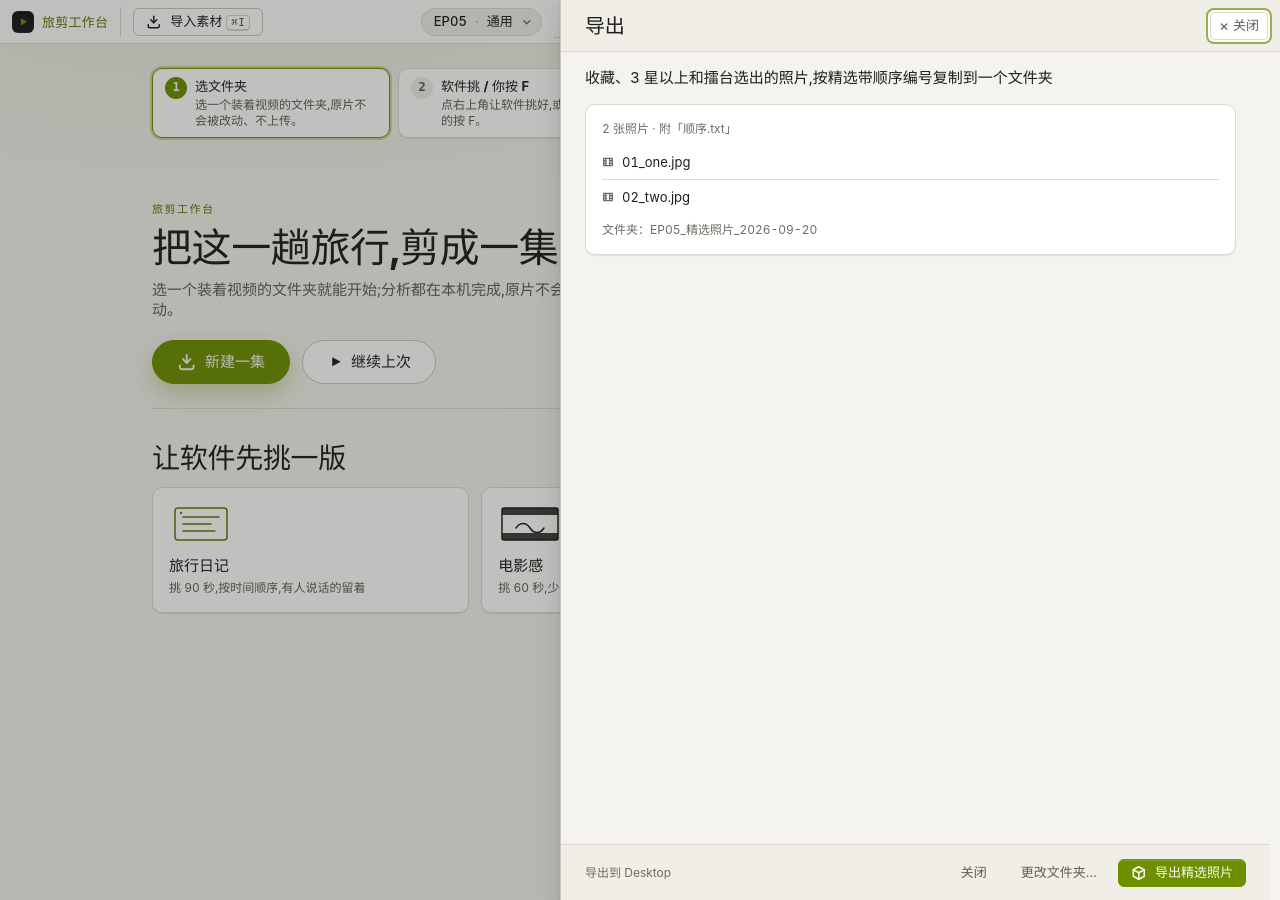
Test: 照片工作台的导出抽屉(R21 照片线) › 导出精选照片:顺序保存失败 → 显示错误,不启动后端
Expected: the text "01_one.jpg" is shown, top-left (622, 153), bottom-right (690, 171)
What coordinates should you click on to do the following:
click the button with aria-label "导出精选照片到上次文件夹"
I would click on:
 (1182, 872)
Its box is top-left (1118, 858), bottom-right (1246, 886).
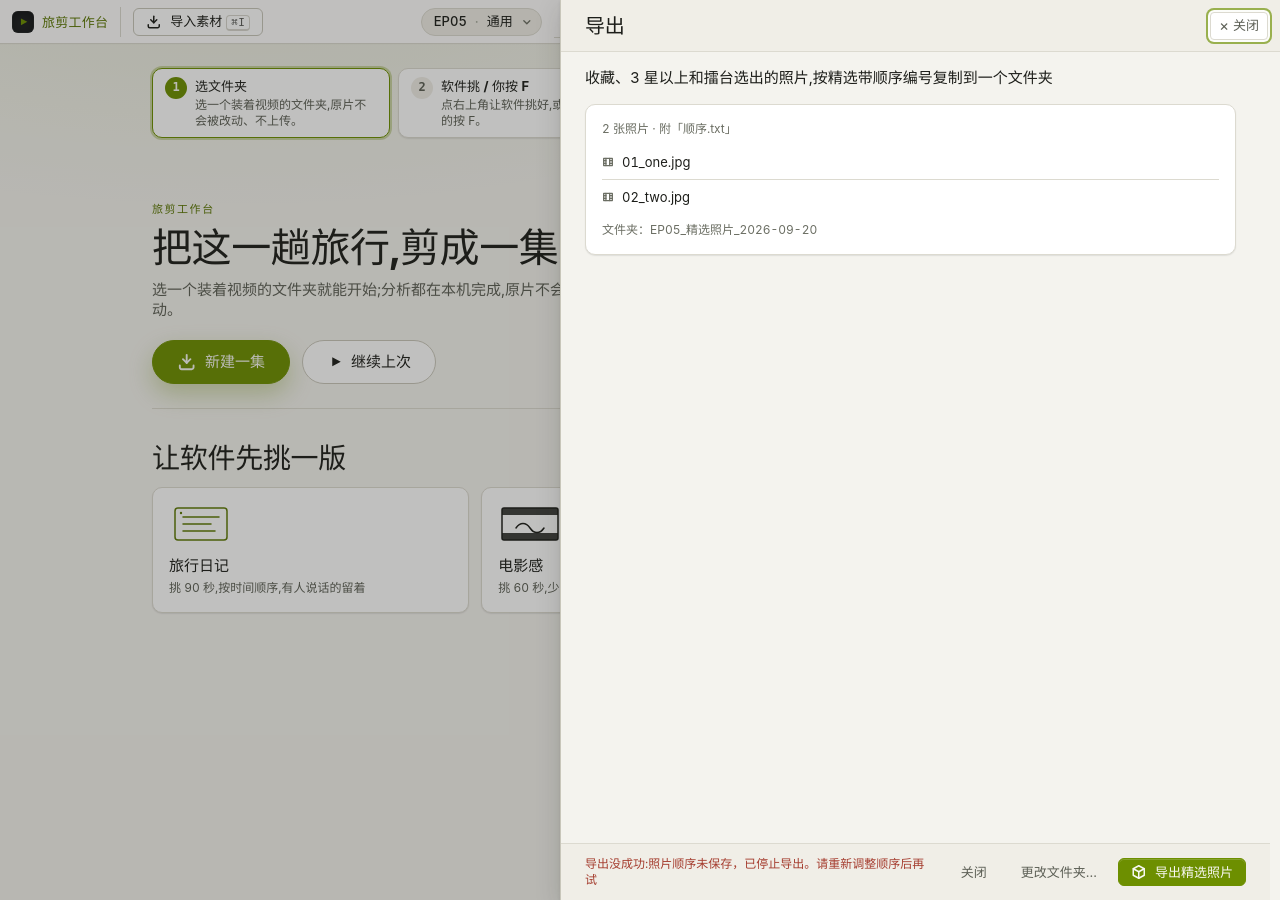
Expected: the text "导出没成功:照片顺序未保存，已停止导出。请重新调整顺序后再试" is shown, top-left (585, 856), bottom-right (932, 888)
